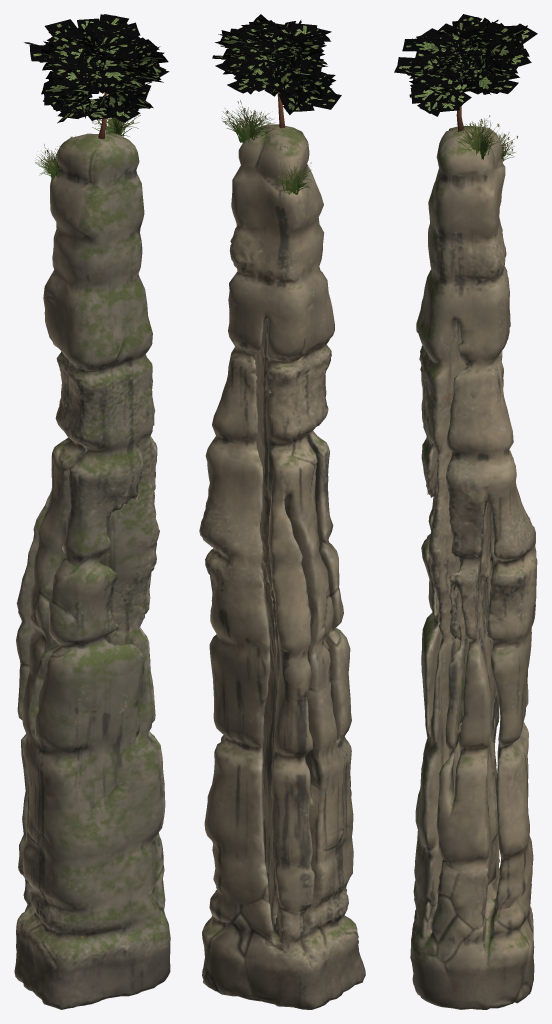
File: skala_jehla.glb
3 views of the same model, side by side, from view 1: azimuth 30°, elevation 25°; view 2: azimuth 150°, elevation 25°; view 3: azimuth 270°, elevation 25° (orthographic).
Visible parts, largest first — view 1: skala_jehla, borovice_mlada, trava_vysoka_3, trava_vysoka_1; view 2: skala_jehla, borovice_mlada, trava_vysoka_1, trava_vysoka_3; view 3: skala_jehla, borovice_mlada, trava_vysoka_1.
Boxes of the visible parts, left/top/right/bottom form: skala_jehla: left=14, top=133, right=170, bottom=1009; borovice_mlada: left=24, top=14, right=169, bottom=138; trava_vysoka_3: left=35, top=144, right=64, bottom=180; trava_vysoka_1: left=92, top=115, right=140, bottom=136; skala_jehla: left=199, top=124, right=365, bottom=1009; borovice_mlada: left=212, top=14, right=341, bottom=128; trava_vysoka_1: left=222, top=100, right=275, bottom=143; trava_vysoka_3: left=271, top=159, right=312, bottom=194; skala_jehla: left=410, top=126, right=537, bottom=1009; borovice_mlada: left=394, top=14, right=537, bottom=131; trava_vysoka_1: left=455, top=115, right=500, bottom=159.
Bounding box in the file's own units: 4.17 × 28.26 × 3.88.
Materials: 6 (6 with a texture image).
